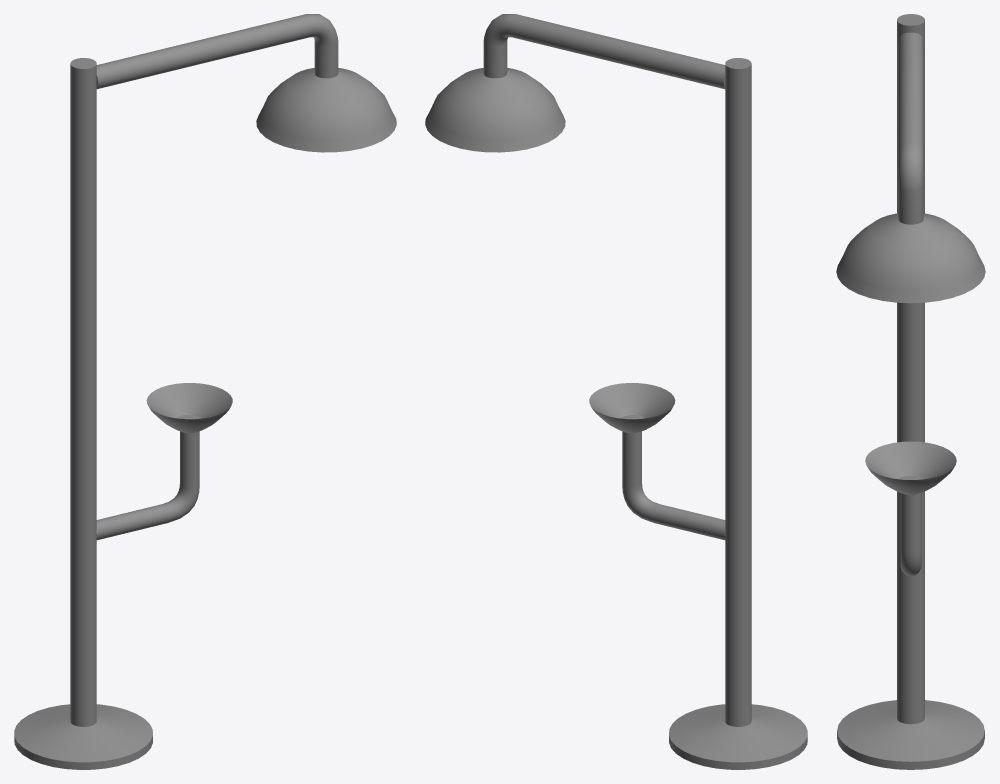
Rendered from face wash.fbx.
The picture shows the model from 3 angles, left to right: view 1: azimuth 30°, elevation 25°; view 2: azimuth 150°, elevation 25°; view 3: azimuth 270°, elevation 25°; orthographic projection. The views are drawn at different scales.
Visible parts, largest first — view 1: Cylinder; view 2: Cylinder; view 3: Cylinder.
Boxes of the visible parts, <box> form: Cylinder: <box>14,14,396,769</box>; Cylinder: <box>425,14,807,769</box>; Cylinder: <box>836,14,985,769</box>.
Size of the model in its own units: 478 by 849 by 160.
1 material, 1 textured.
